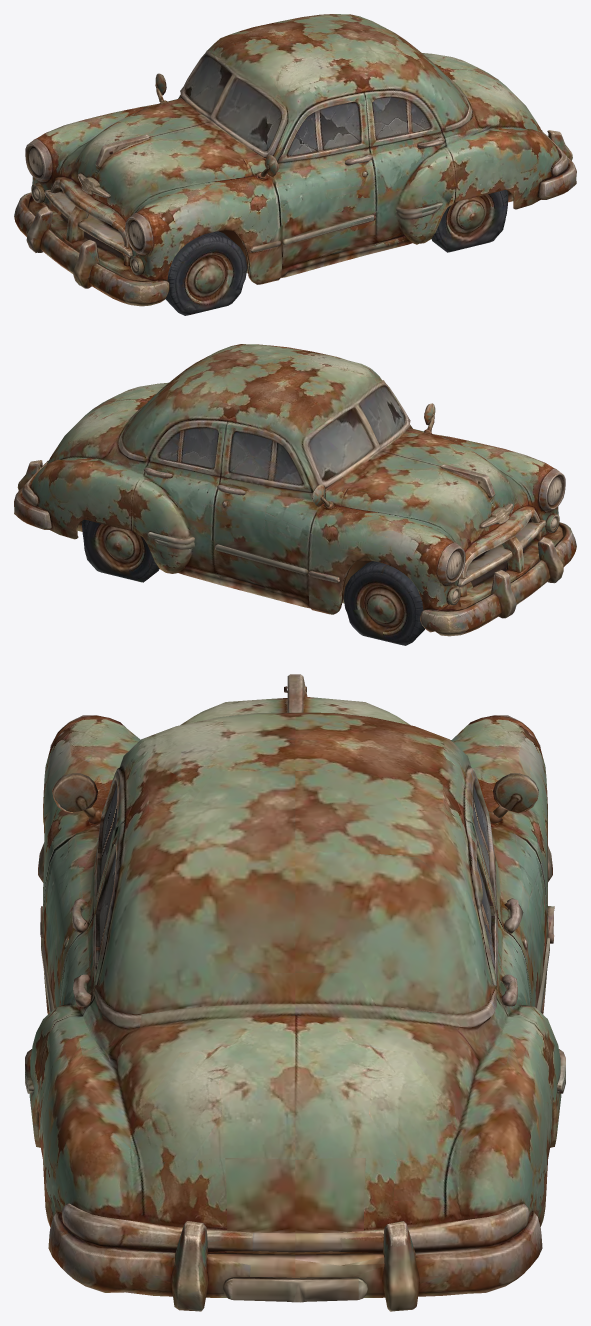
The model's file is town_car_a.glb.
3 renders of one model, top to bottom at view 1: azimuth 30°, elevation 25°; view 2: azimuth 150°, elevation 25°; view 3: azimuth 270°, elevation 25°, orthographic. The views are drawn at different scales.
Size of the model in its own units: 0.9536 by 0.354 by 0.4526.
1 material, 1 textured.
